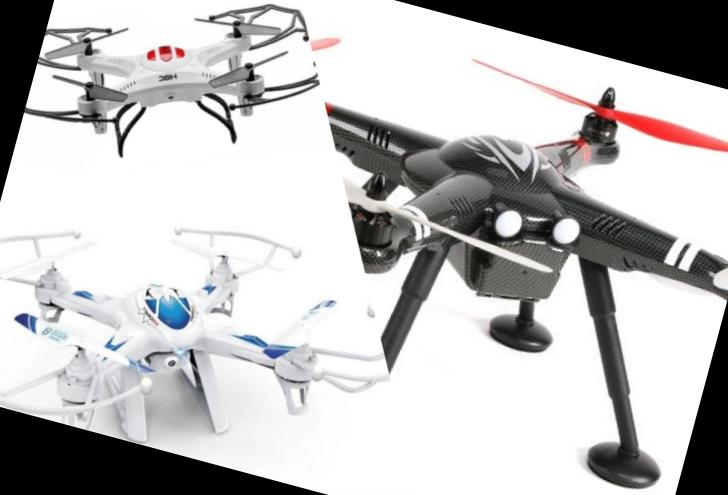drone: (238, 14, 728, 438), (0, 160, 394, 493), (19, 0, 347, 200)
